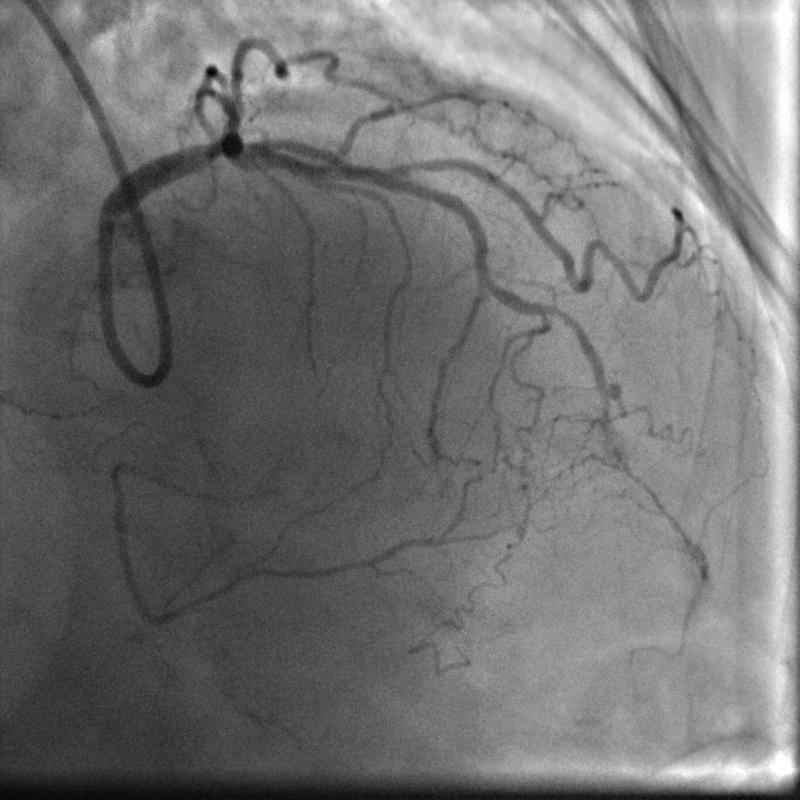Stenosis: (195, 122, 232, 179)
